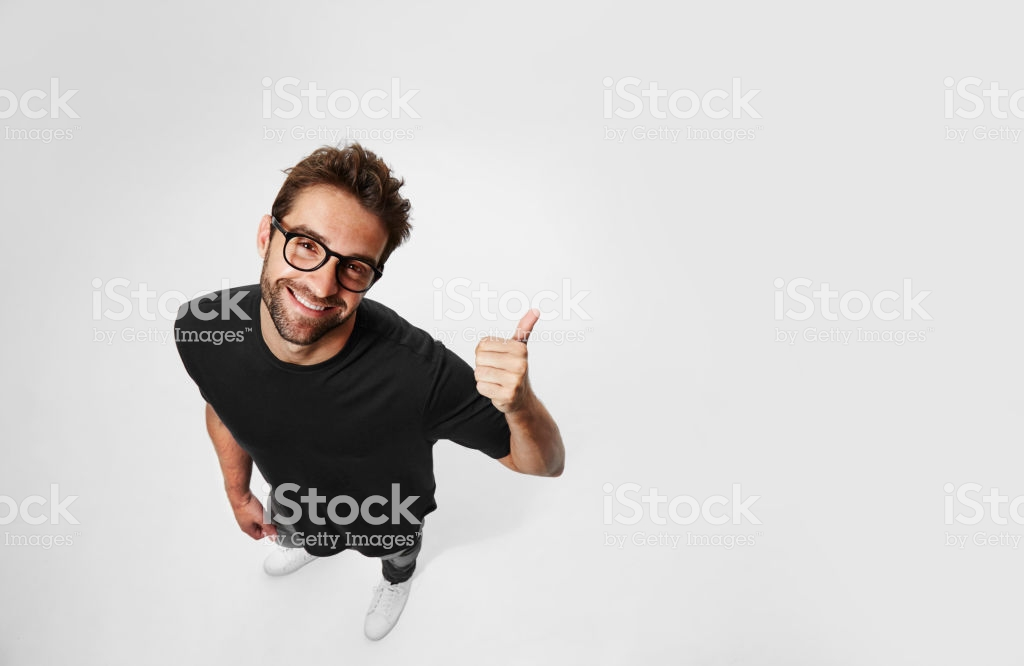thumbsup: (473, 309, 543, 410)
